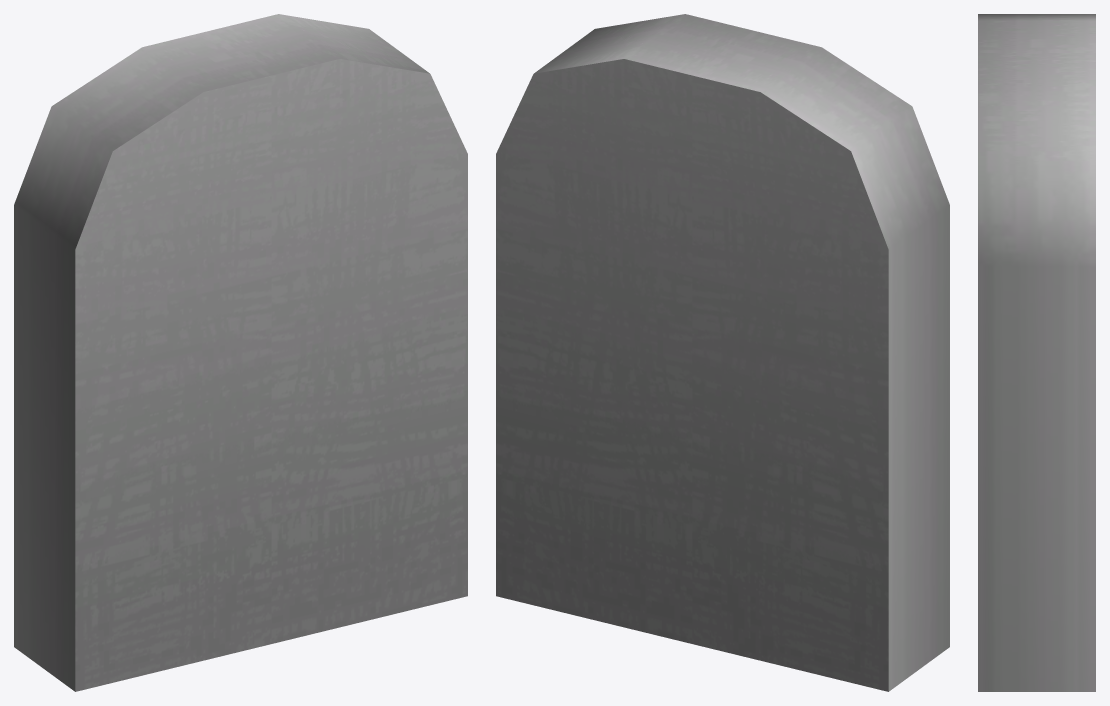
The model's file is StoneSignhand.fbx.
3 views of the same model, side by side, from view 1: azimuth 30°, elevation 25°; view 2: azimuth 150°, elevation 25°; view 3: azimuth 270°, elevation 25° (orthographic). The views are drawn at different scales.
Parts seen in each view (by area): view 1: crate; view 2: crate; view 3: crate.
Boxes of the visible parts, bbox=[...] form: crate: bbox=[14, 14, 467, 691]; crate: bbox=[496, 14, 949, 691]; crate: bbox=[978, 14, 1095, 691].
Bounding box in the file's own units: 0.6596 × 0.9129 × 0.1784.
